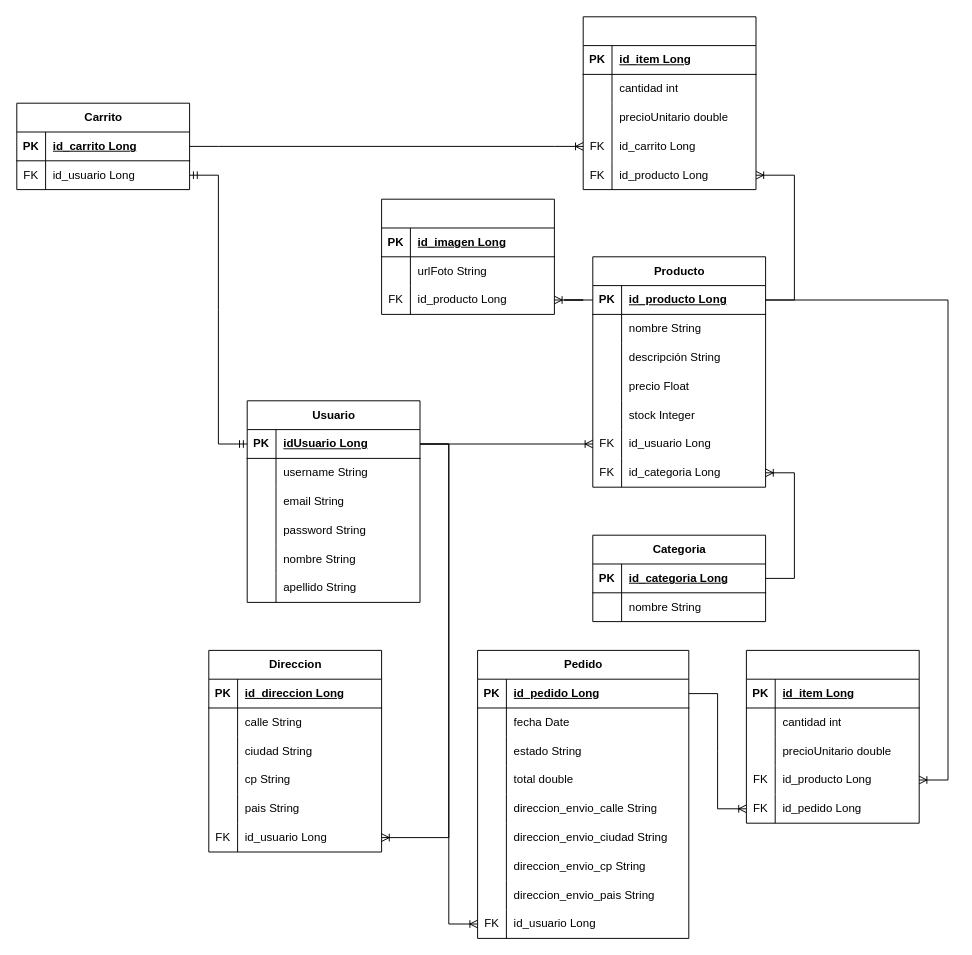
Some shapes in this 972 by 955 pixel diagram are drawn without their labels. Each missing label, with the box of its shape:
Imagen_Producto: (381, 198, 554, 314)
Item_Carrito: (582, 16, 756, 190)
Item_Pedido: (745, 649, 919, 823)
